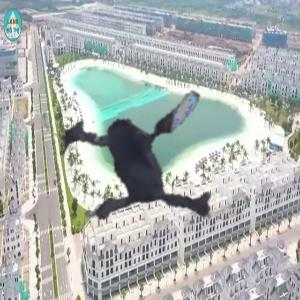drone: (36, 12, 296, 272)
